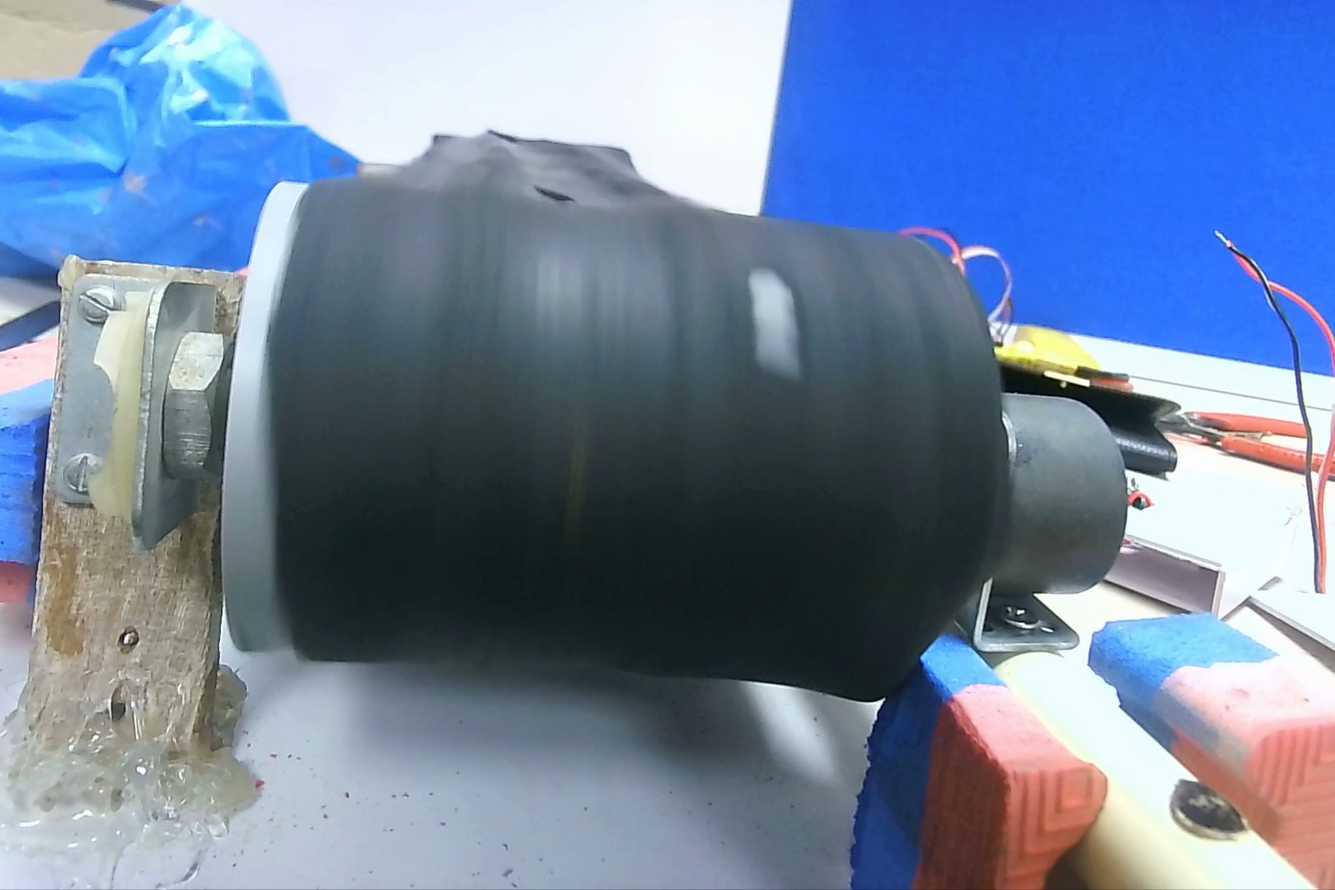hole: (750, 271, 793, 355)
